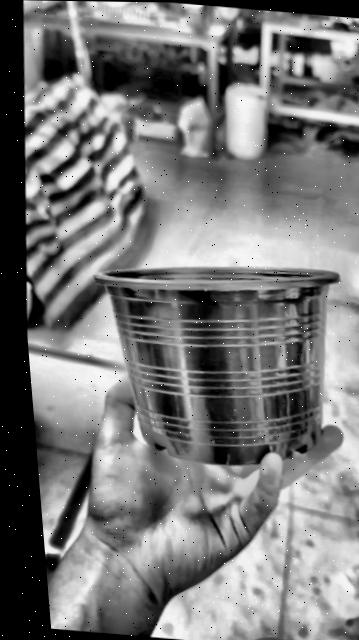pot: (93, 266, 338, 464)
